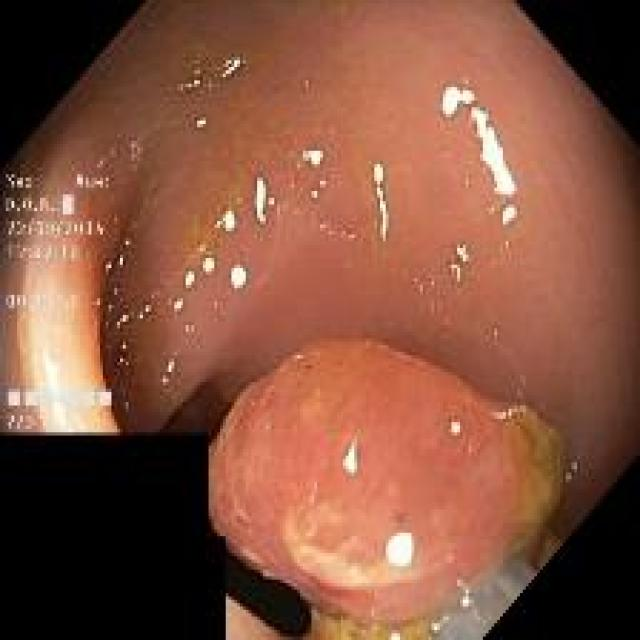Polyps: (211, 340, 565, 627)
